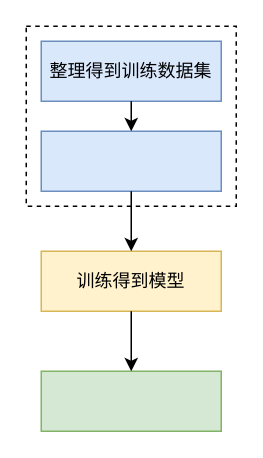
Image size: 263x458. Some labels were removed from this diagram. Each missing label, with the centre of its shape:
"整理得到测试数据集" belongs at point (130, 160).
"预测并得到指标" belongs at point (130, 400).
